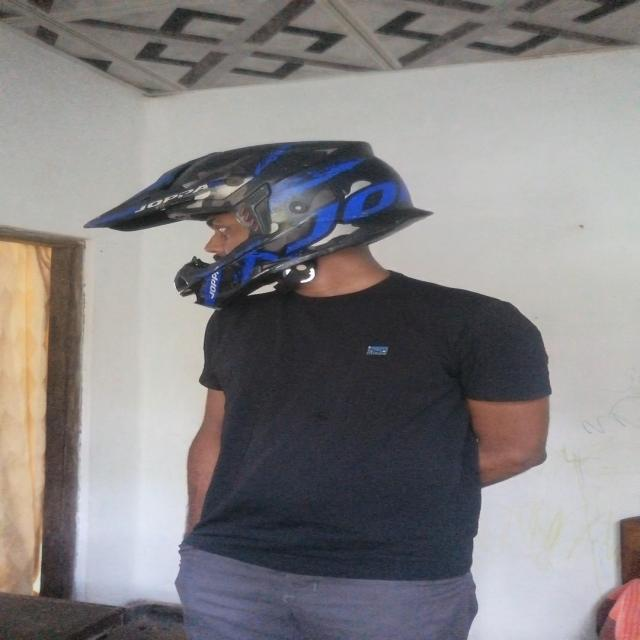Helmet_Wearer: (87, 136, 450, 356)
Person: (158, 124, 558, 640)
